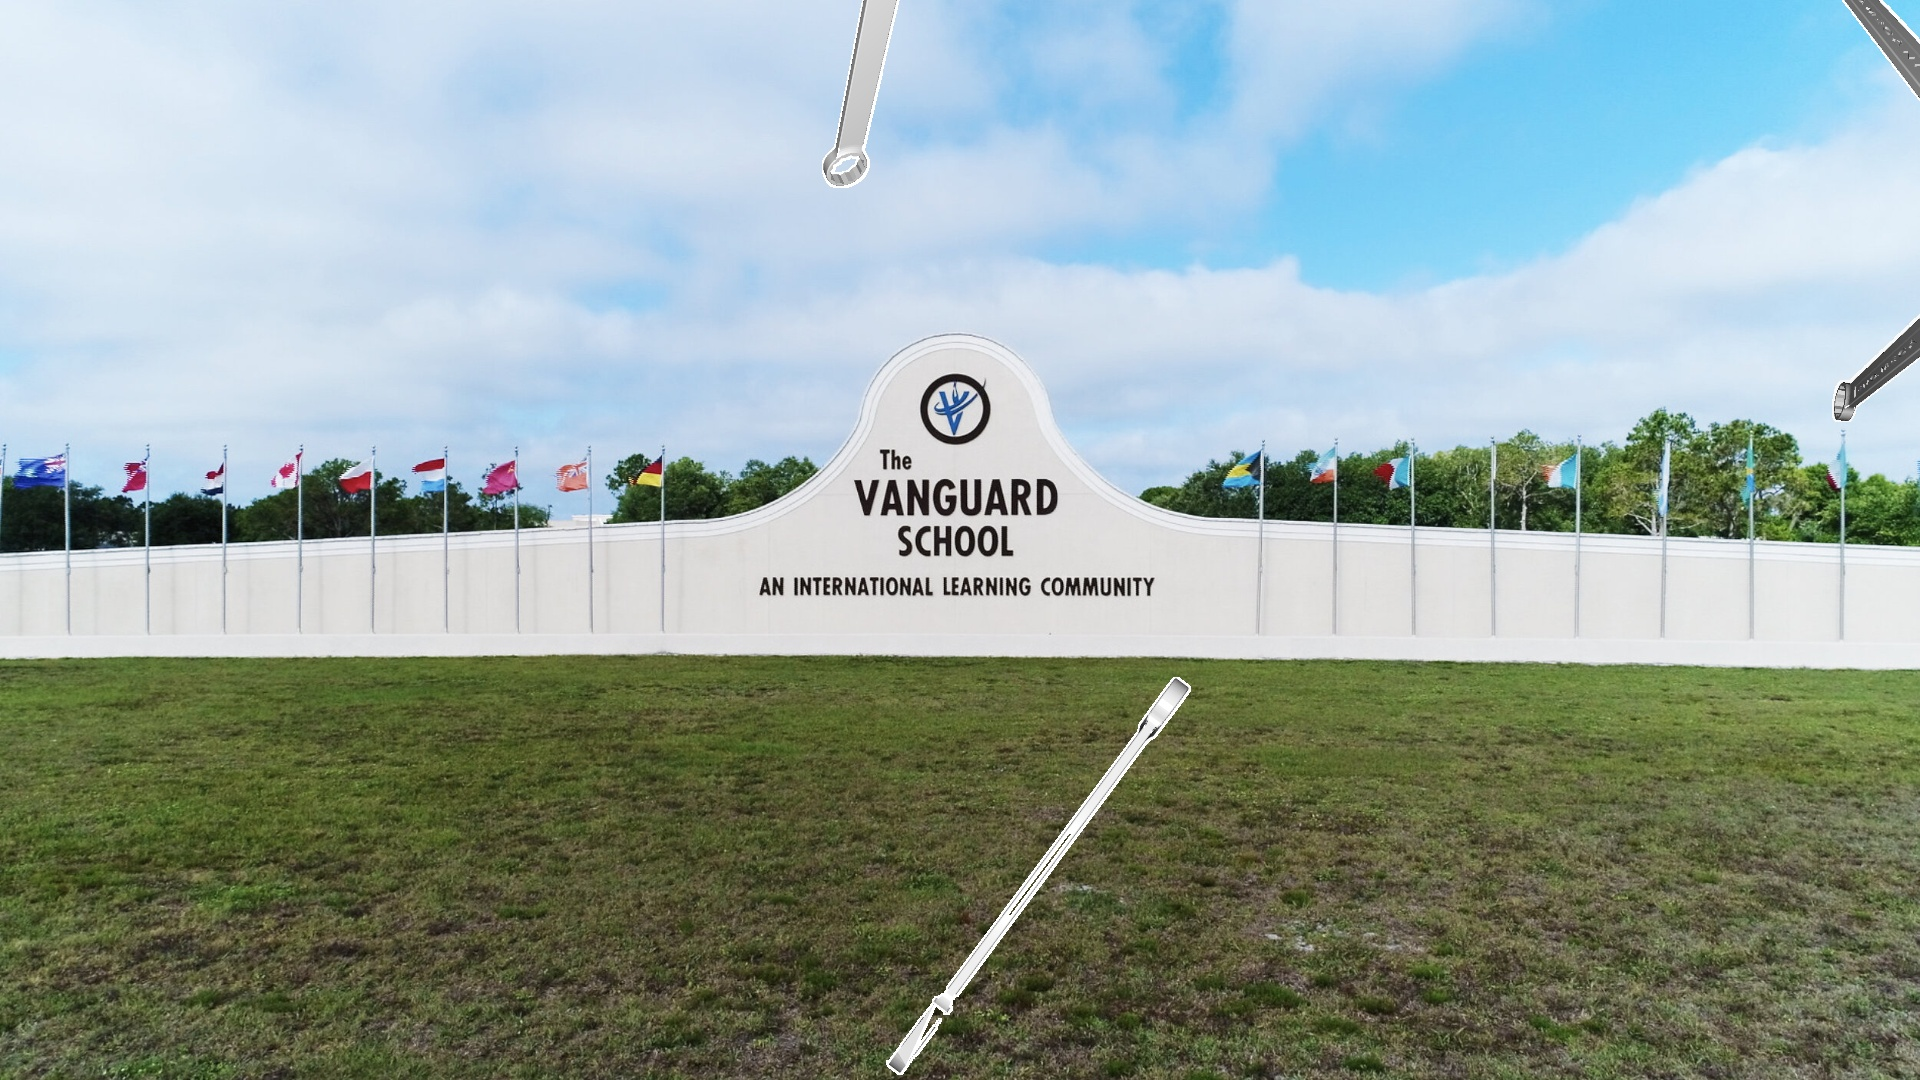Mixed Key: (886, 676, 1189, 1073), (822, 0, 899, 187), (1832, 314, 1919, 421), (1842, 0, 1919, 100)
